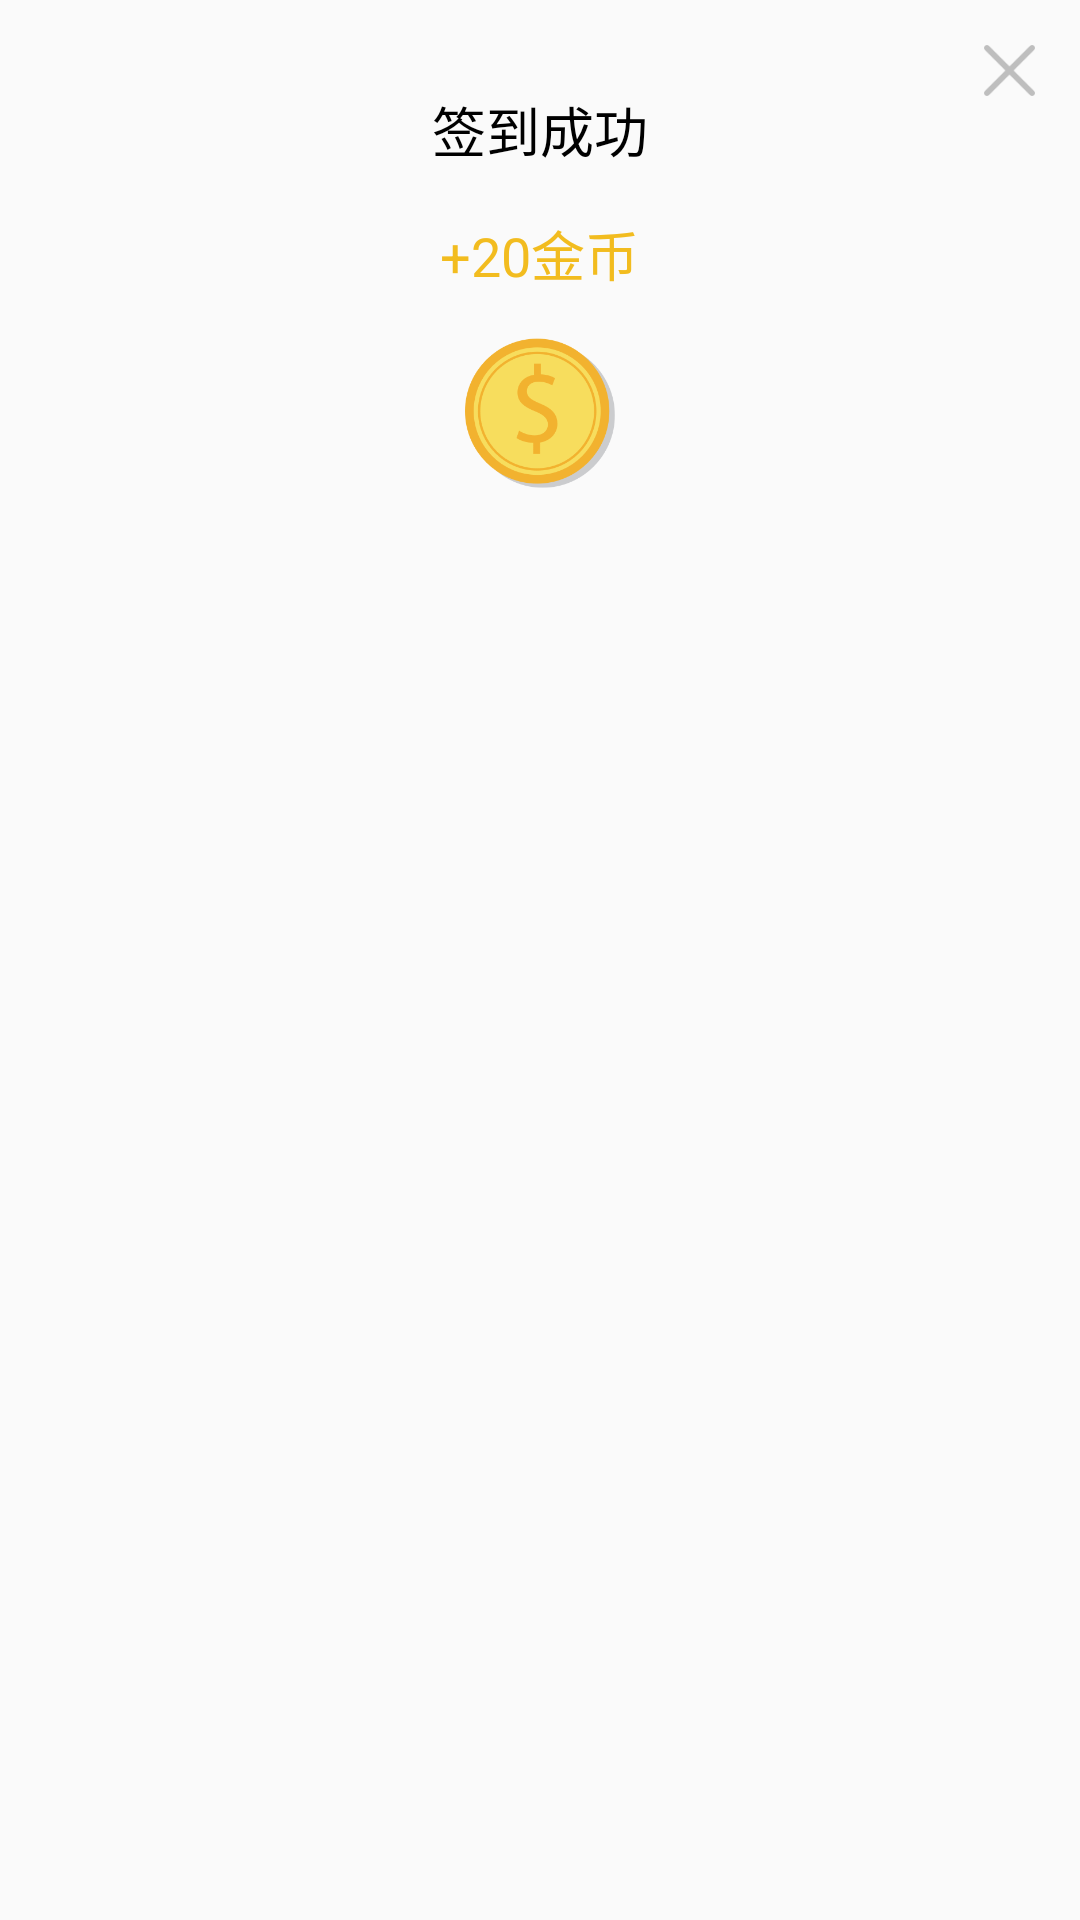

Icon click points for this 1080×1920 phone screenshot, format [x,y]:
close: [1009,70]
tanchuang jinbi: [540,413]
